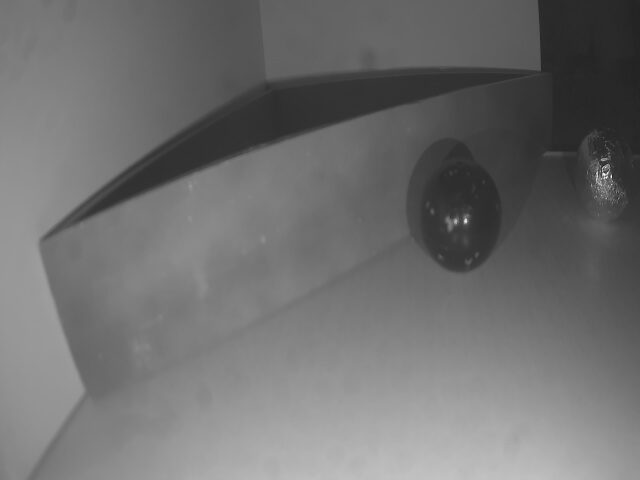Dead: (423, 165, 504, 276)
Green: (50, 73, 551, 415)
Live: (577, 128, 636, 222)
